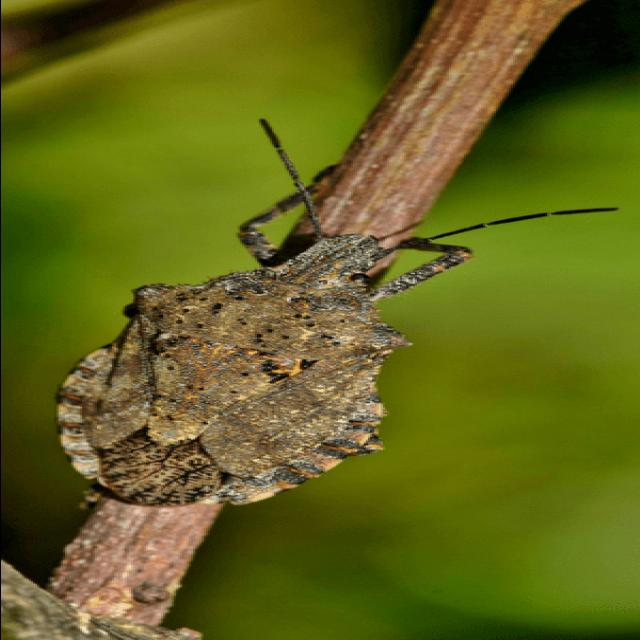stink_bug: (48, 107, 614, 511)
